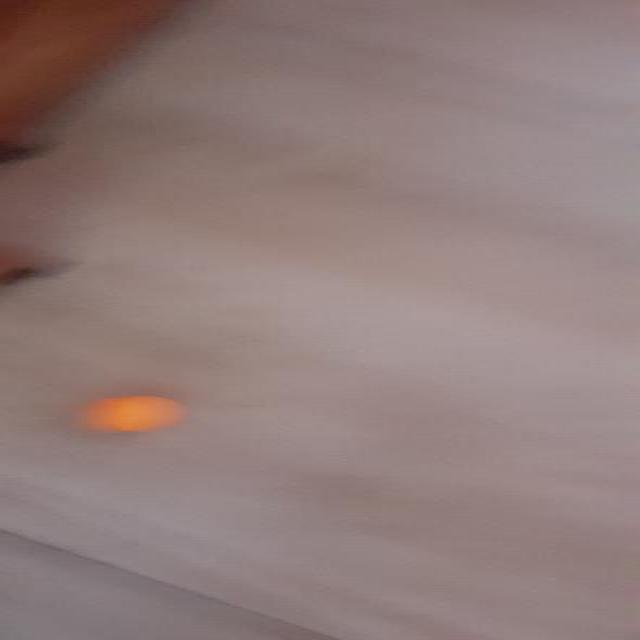oball: (93, 394, 176, 430)
